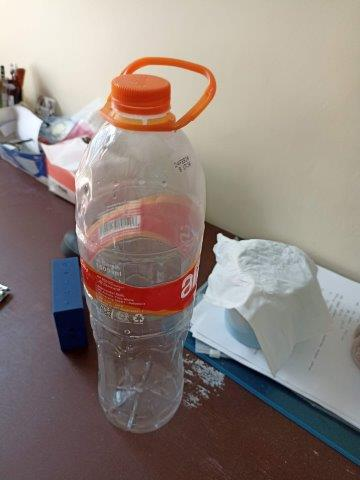botolplastik: (81, 76, 199, 432)
